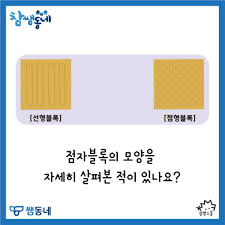block(line type): (20, 59, 70, 109)
block(point type): (153, 60, 203, 108)
